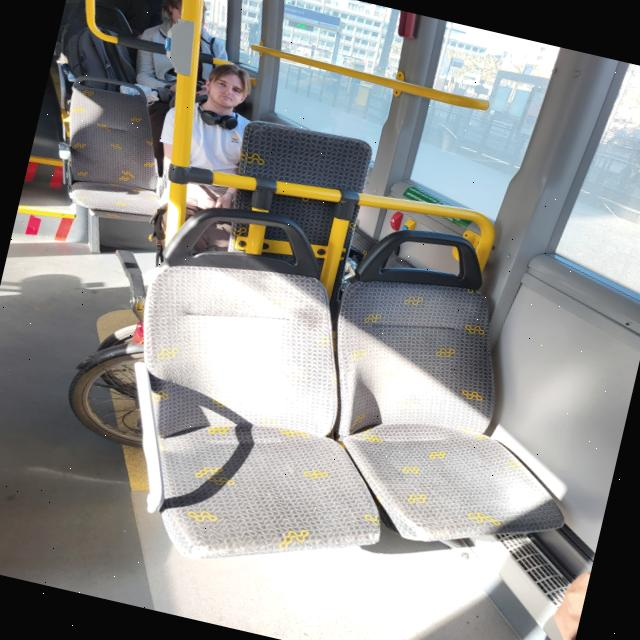empty-seat-frontal: (90, 188, 449, 597), (290, 214, 628, 574), (40, 72, 192, 232)
